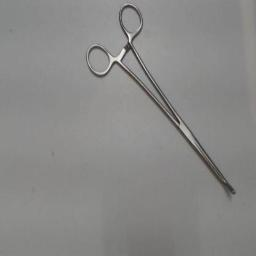Lahey Forceps: (79, 2, 237, 200)
